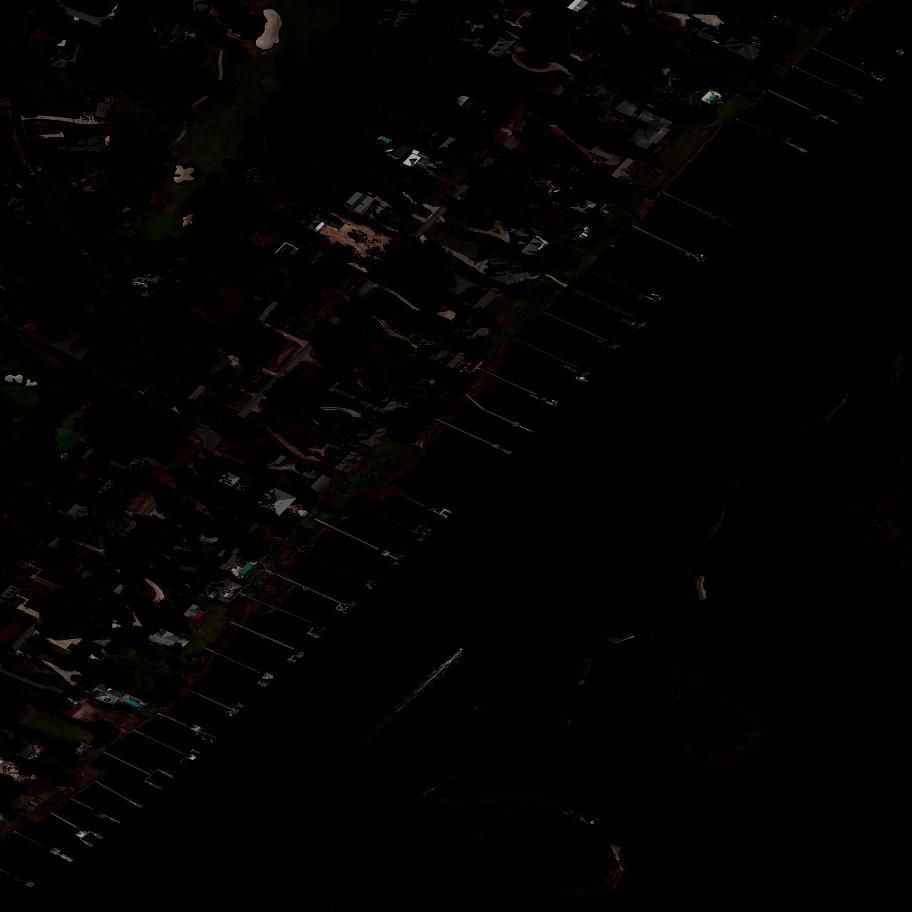ship: (224, 710, 234, 719), (693, 256, 702, 265), (456, 647, 465, 656), (596, 342, 606, 350), (896, 48, 905, 56), (61, 452, 69, 461), (876, 73, 886, 80), (697, 253, 708, 259), (59, 859, 68, 866), (360, 340, 368, 347), (340, 605, 349, 611), (652, 294, 661, 299), (261, 680, 271, 684), (203, 738, 213, 742), (575, 377, 587, 380)
small-vehicle: (341, 422, 350, 430), (80, 479, 87, 487), (242, 487, 249, 495), (89, 513, 96, 520), (479, 30, 486, 37), (481, 109, 488, 116), (154, 606, 161, 613), (72, 695, 80, 701), (64, 516, 71, 522), (554, 189, 561, 194), (64, 692, 72, 696), (594, 156, 599, 162), (113, 623, 118, 629), (588, 153, 595, 156), (162, 607, 167, 611), (38, 168, 41, 171), (553, 185, 557, 187), (82, 119, 91, 119)
